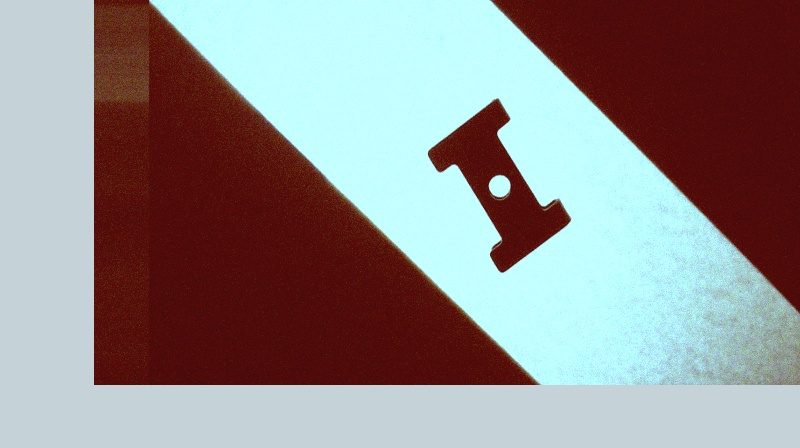O002: (423, 95, 574, 275)
